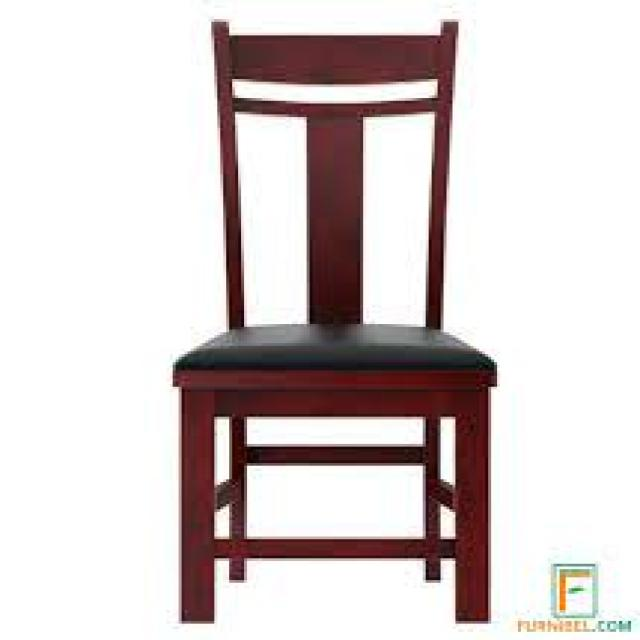chair: (143, 0, 509, 629)
